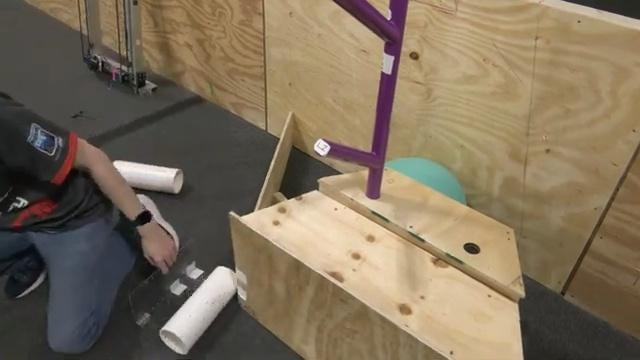CORAL: (158, 263, 237, 354), (110, 158, 184, 194)
